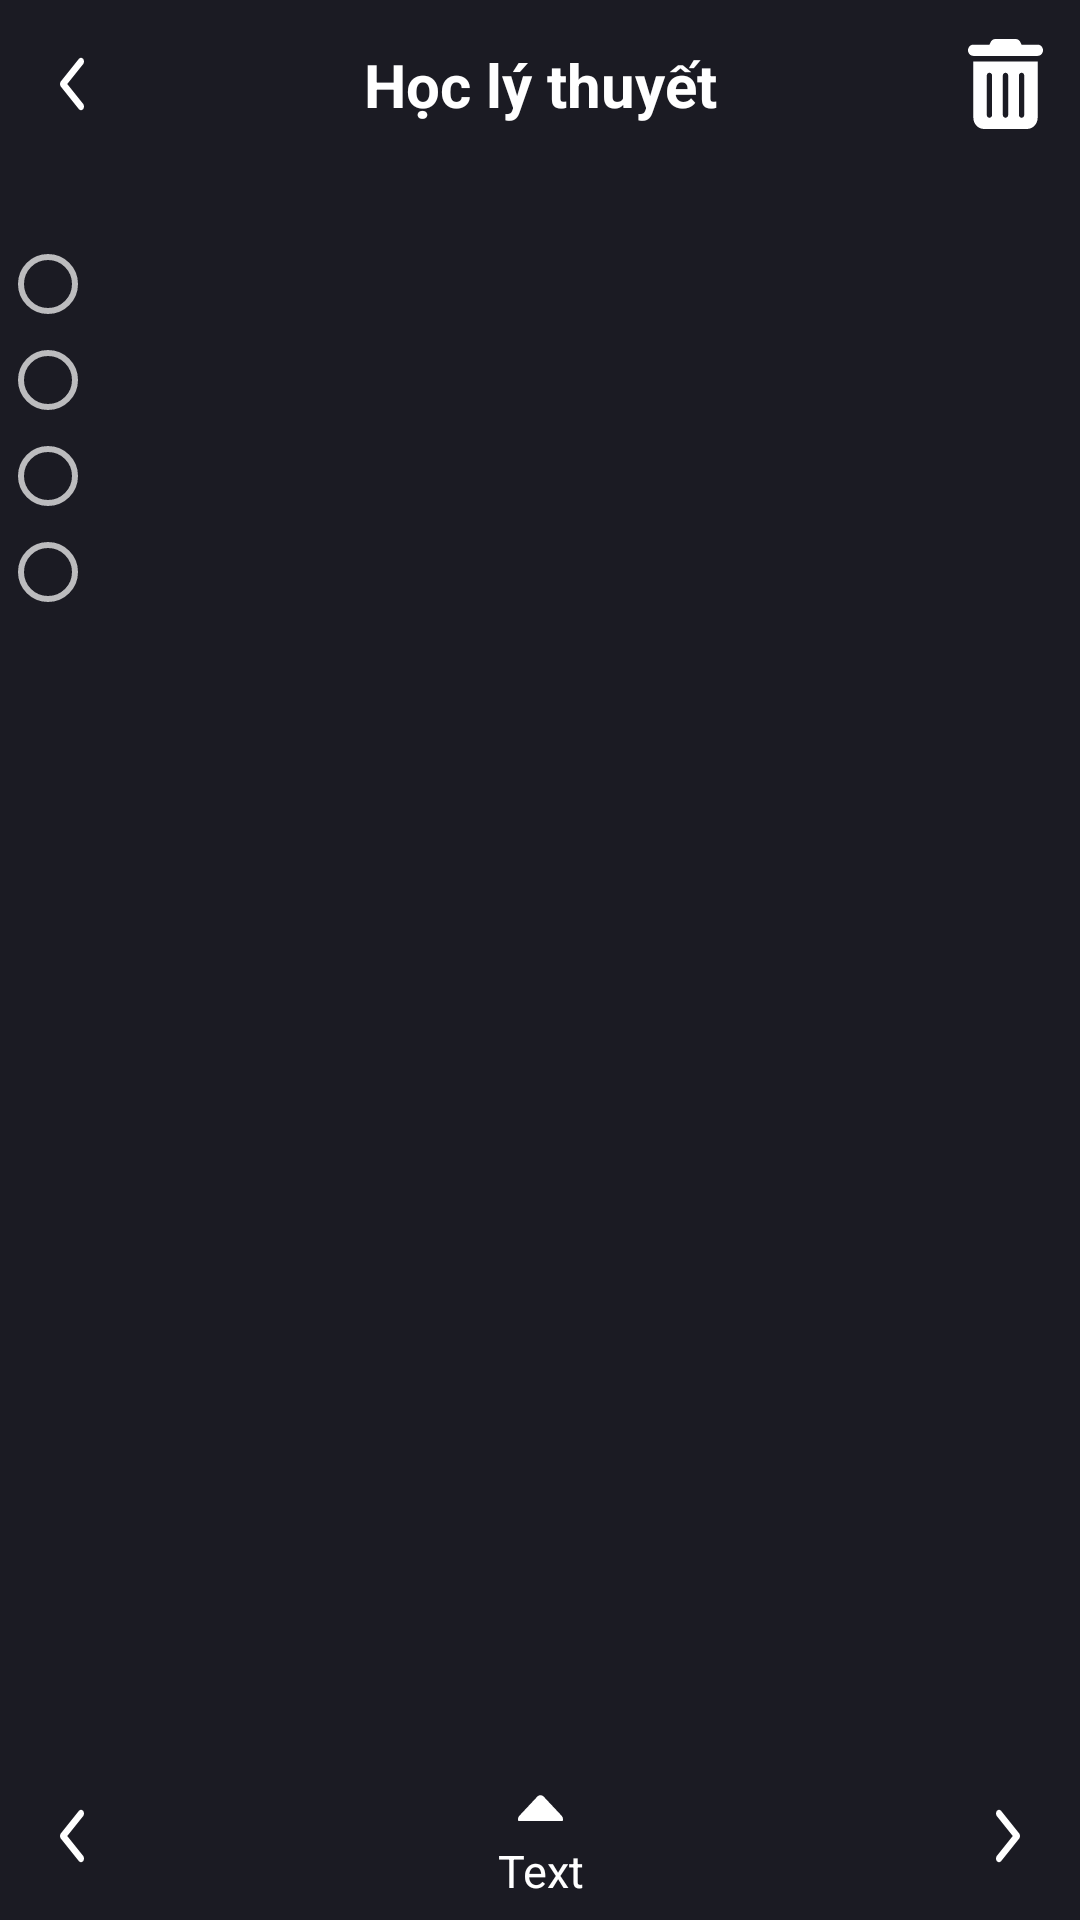

Where icons sit on this 1080×1920 app screen, as [x1,y1,x2,y2]:
chevron left: [60,57,84,111], [60,1809,84,1863]
chevron right: [996,1809,1020,1863]
trash can: [968,39,1043,129]
